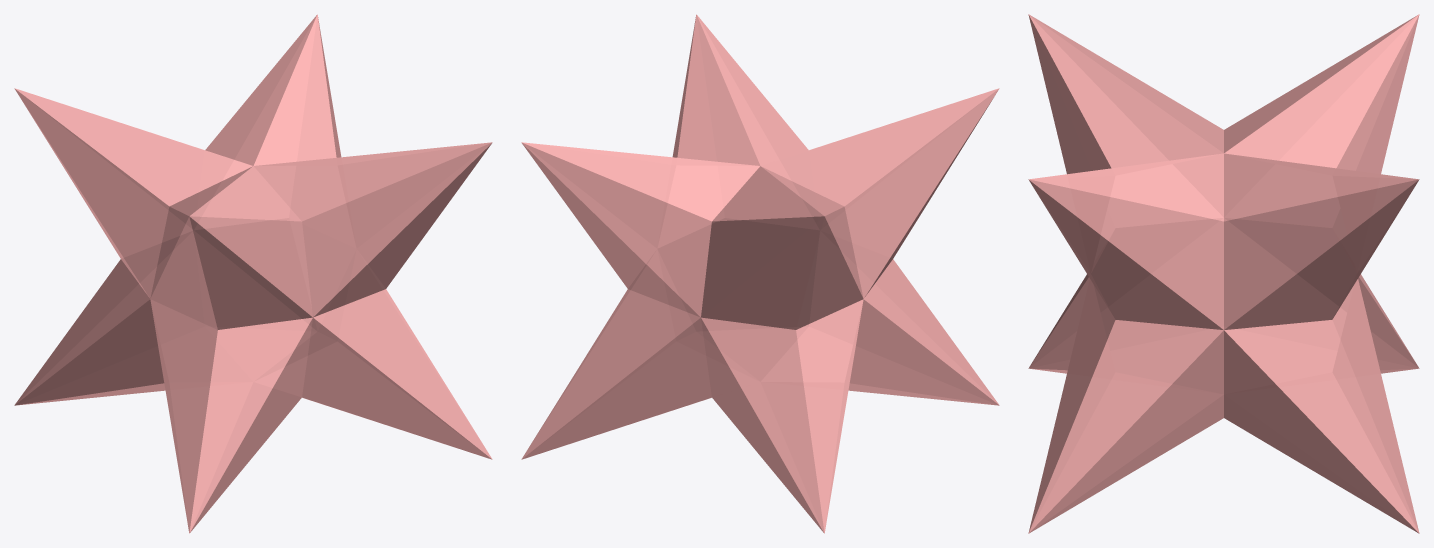
The model's file is GreatDisdyakisDodecahedron.obj.
The picture shows the model from 3 angles, left to right: view 1: azimuth 30°, elevation 25°; view 2: azimuth 150°, elevation 25°; view 3: azimuth 270°, elevation 25°; orthographic projection. The views are drawn at different scales.
Bounding box in the file's own units: 2.83 × 2.83 × 2.83.
